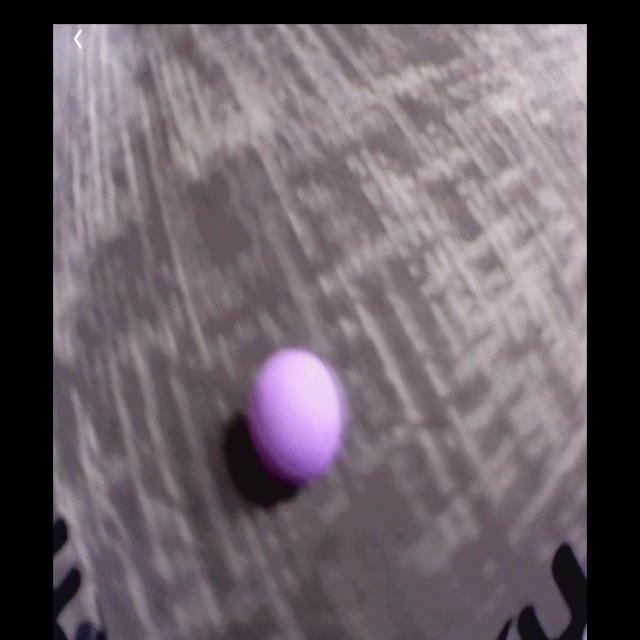ball: (251, 352, 345, 477)
